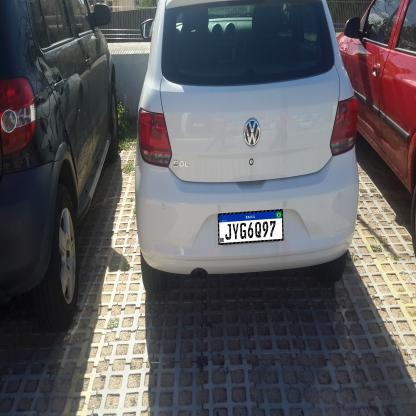PlacaM: (218, 209, 284, 245)
